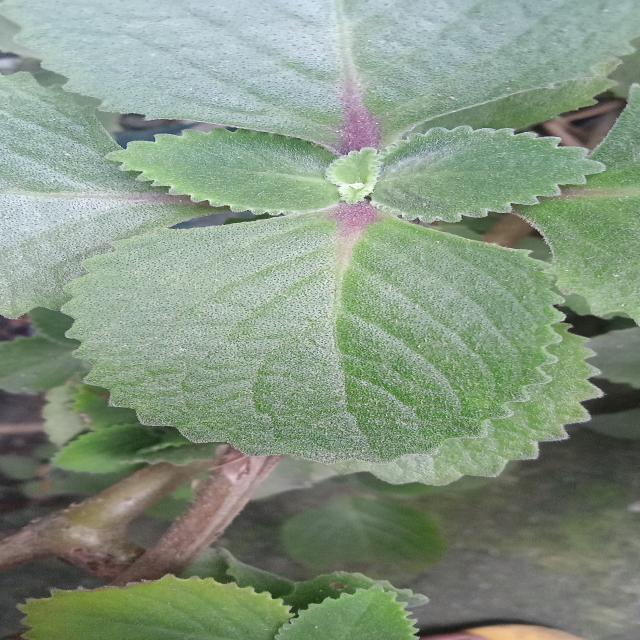Oregano: (32, 63, 636, 531)
